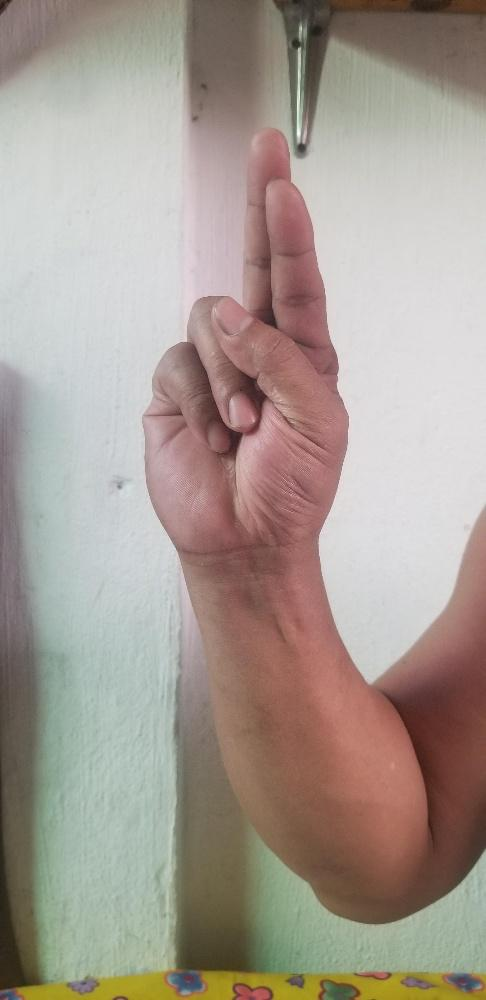r: (140, 126, 348, 554)
